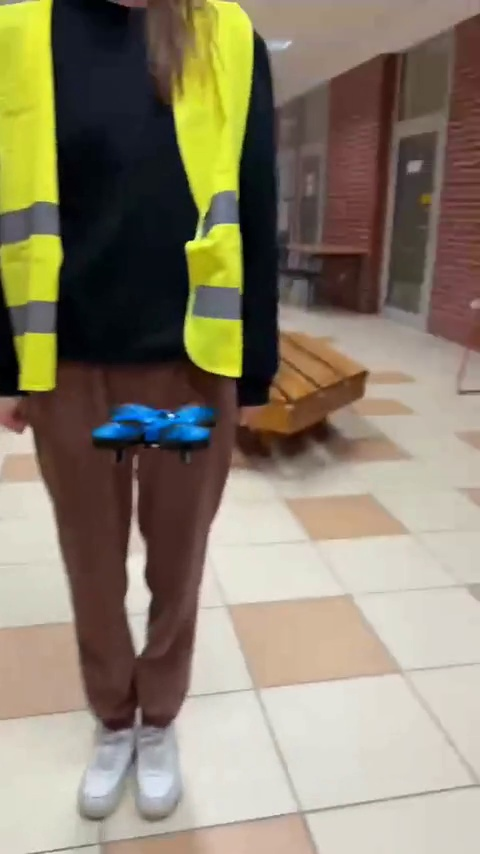drone: (89, 397, 221, 464)
vest: (0, 63, 282, 827)
